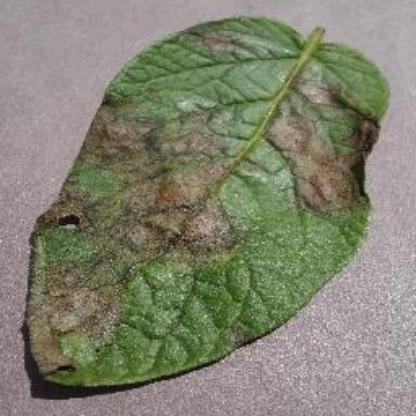Late-Blight: (22, 12, 394, 408)
